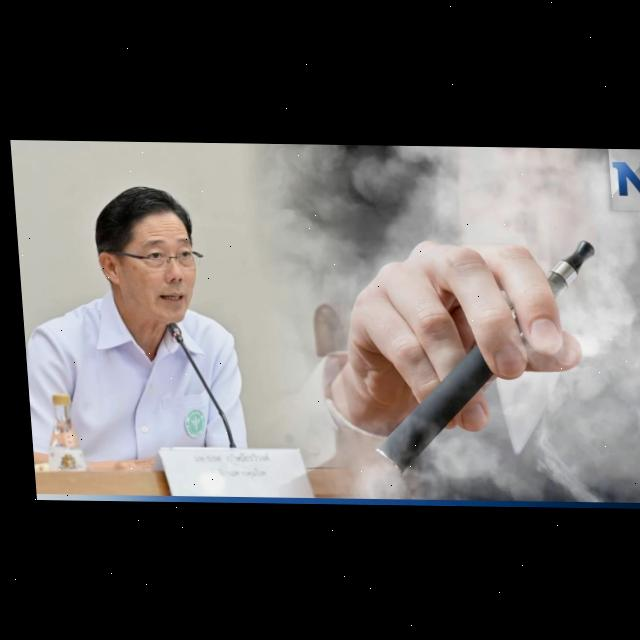vape: (356, 235, 604, 475)
